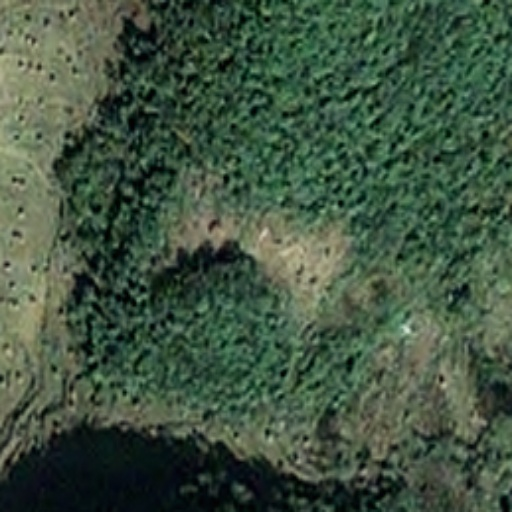landslide: (172, 210, 343, 300)
